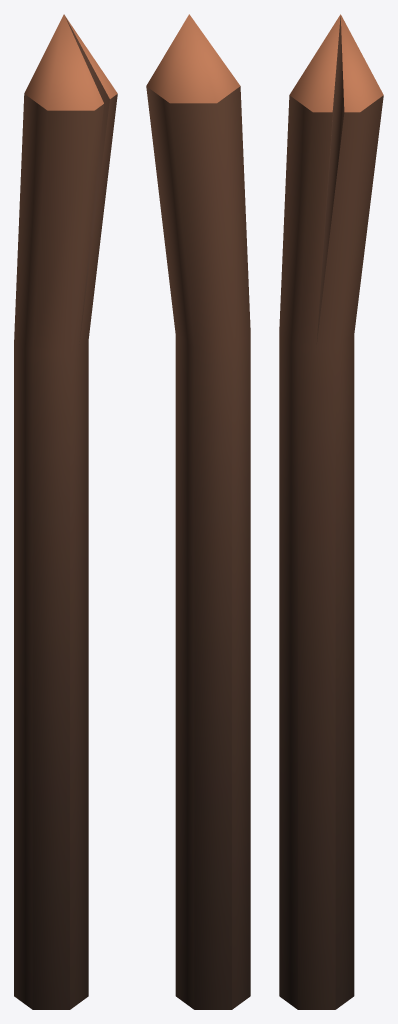
Rendered from Fence_3A_Part_2.fbx.
The picture shows the model from 3 angles, left to right: view 1: azimuth 30°, elevation 25°; view 2: azimuth 150°, elevation 25°; view 3: azimuth 330°, elevation 25°; orthographic projection.
Parts seen in each view (by area): view 1: Fence_3A_Part_2; view 2: Fence_3A_Part_2; view 3: Fence_3A_Part_2.
Part boxes in pixels (bbox=[...]): Fence_3A_Part_2: bbox=[14, 14, 117, 1009]; Fence_3A_Part_2: bbox=[146, 14, 250, 1009]; Fence_3A_Part_2: bbox=[279, 14, 383, 1009].
Size of the model in its own units: 9.92 by 112 by 9.72.
